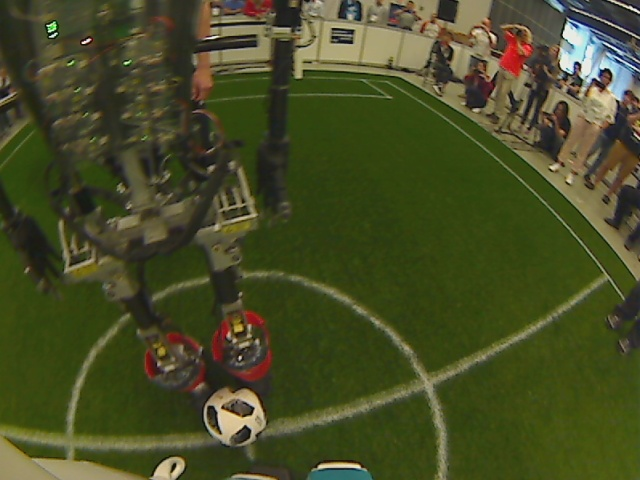ball: (197, 382, 269, 449)
goalpost: (199, 1, 305, 82)
robot: (1, 2, 297, 406)
